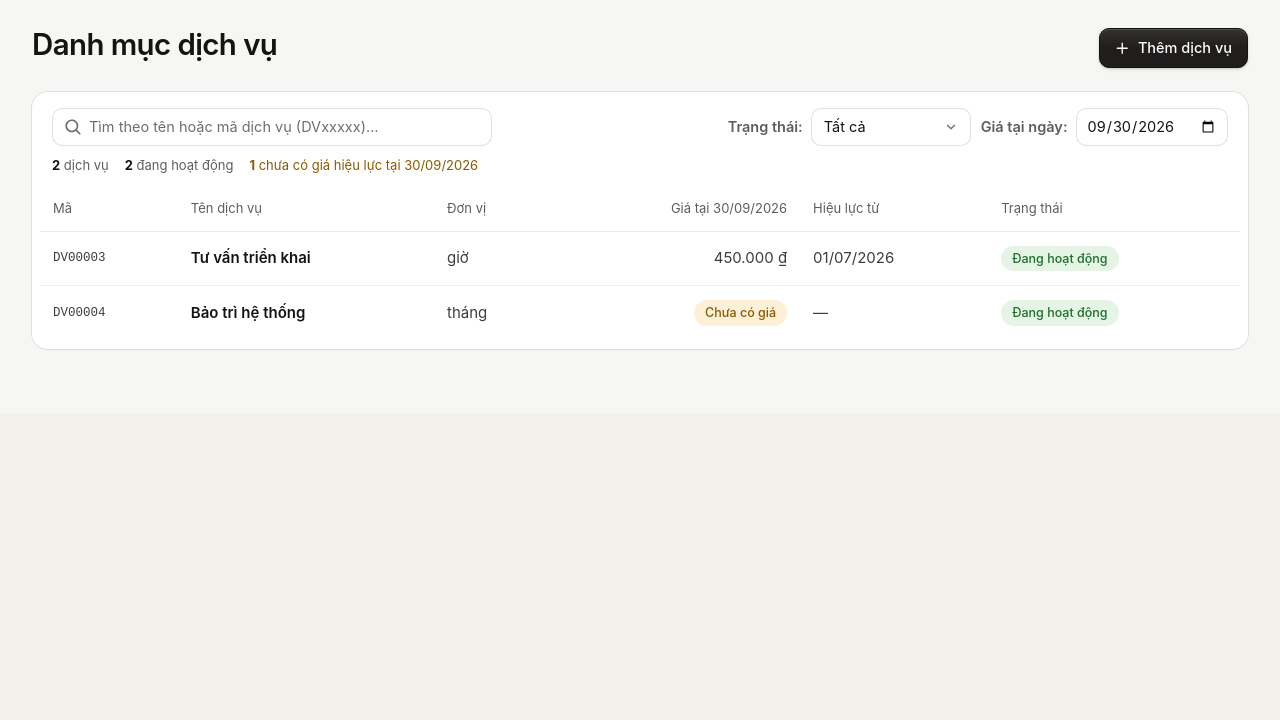
ServiceCatalogPage (NCL-15-CN-001) › TC-02: máy chủ báo trùng tên (409) → hiện lỗi dưới ô tên, không đóng form
This screenshot has width=1280, height=720.
Expected: the row with test id "svc-row-3" is shown, x1=40 y1=232 x2=1240 y2=286
Click the button with test id "svc-btn-create".
click(1174, 48)  # box x1=1099 y1=28 x2=1248 y2=68
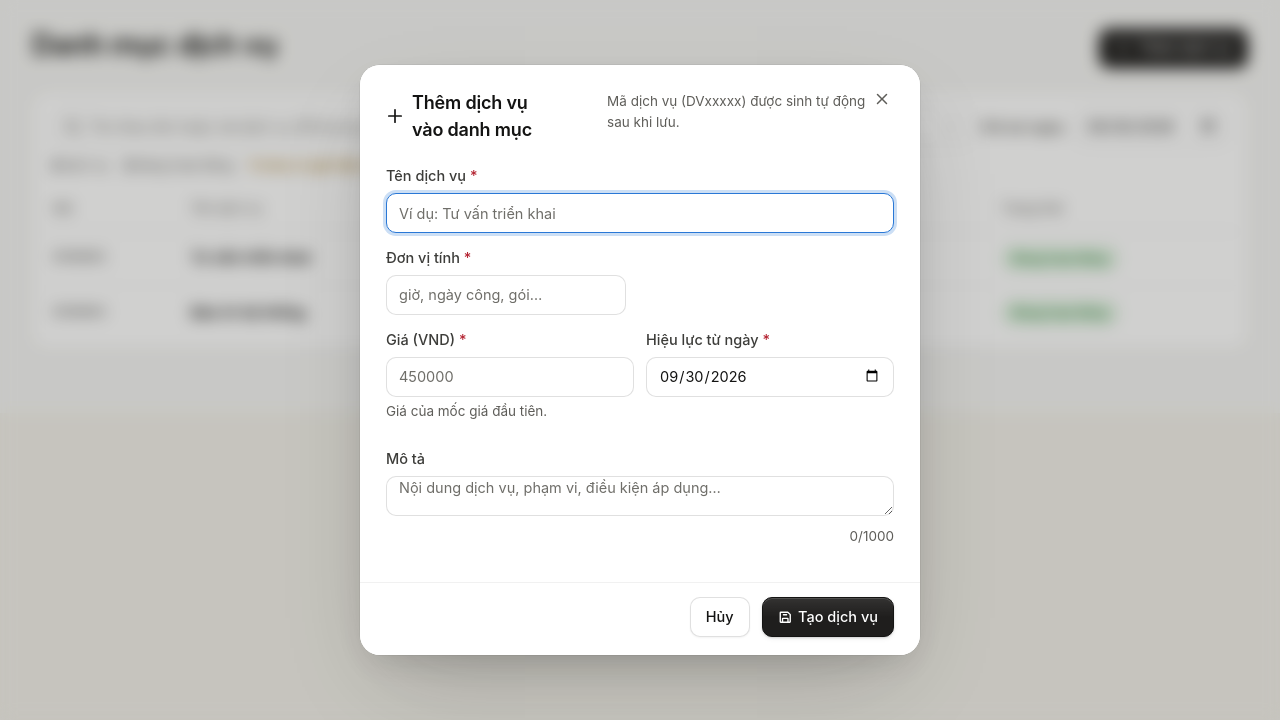
Type "Dịch vụ ẩn ở trang khác" into the field with test id "svc-input-name".
click(640, 213); type("Dịch vụ ẩn ở trang khác")  # box x1=386 y1=193 x2=894 y2=233
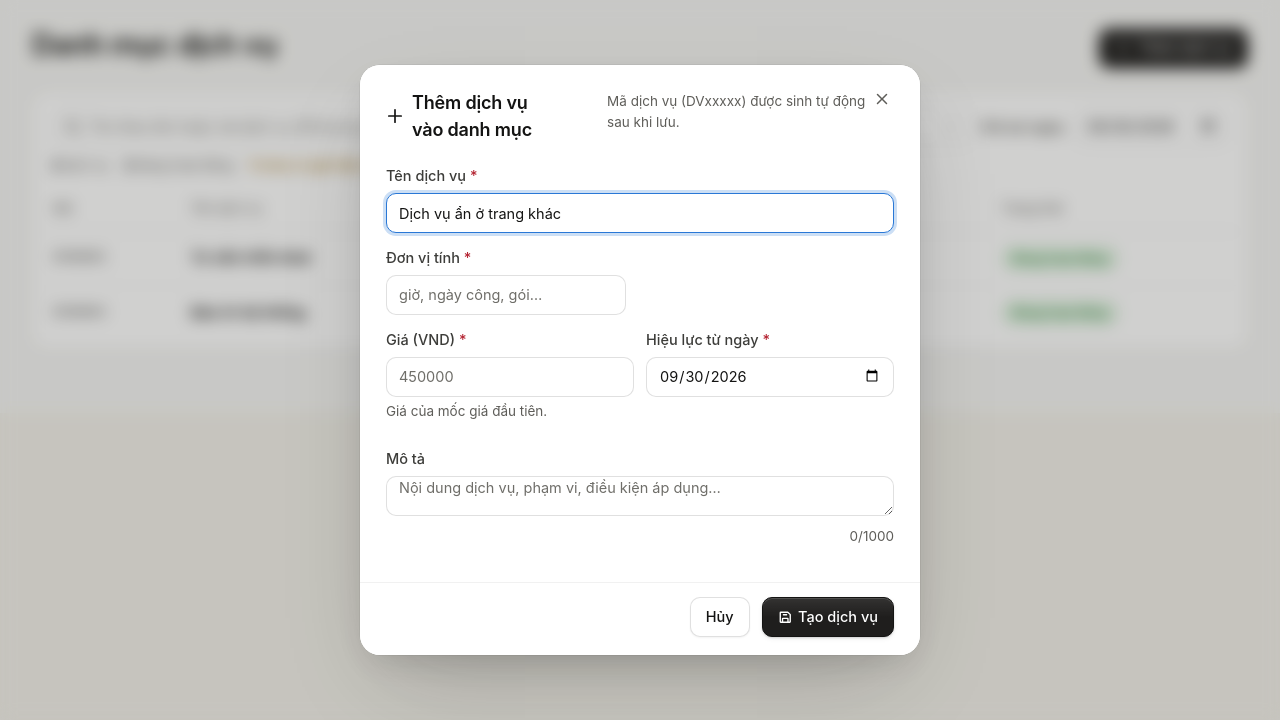
Type "giờ" into the field with test id "svc-input-unit".
click(506, 295); type("giờ")  # box x1=386 y1=275 x2=626 y2=315
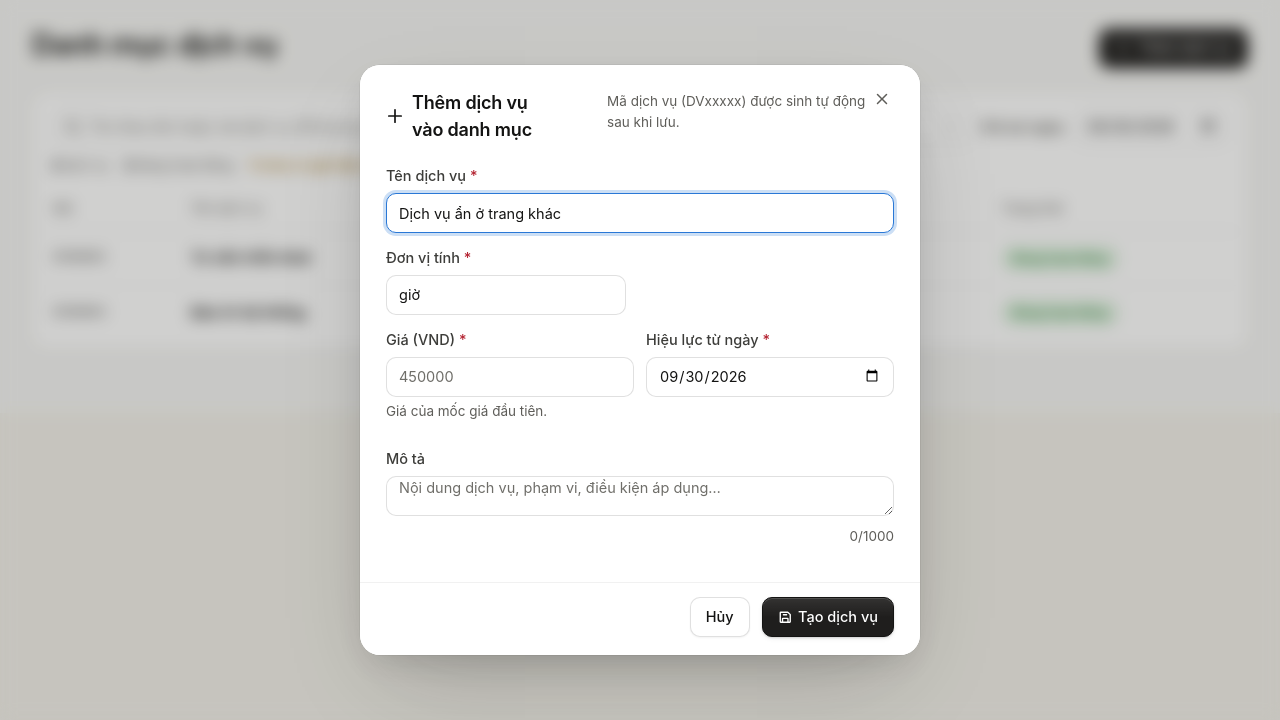
Type "100000" into the field with test id "svc-input-price".
click(510, 377); type("100000")  # box x1=386 y1=357 x2=634 y2=397
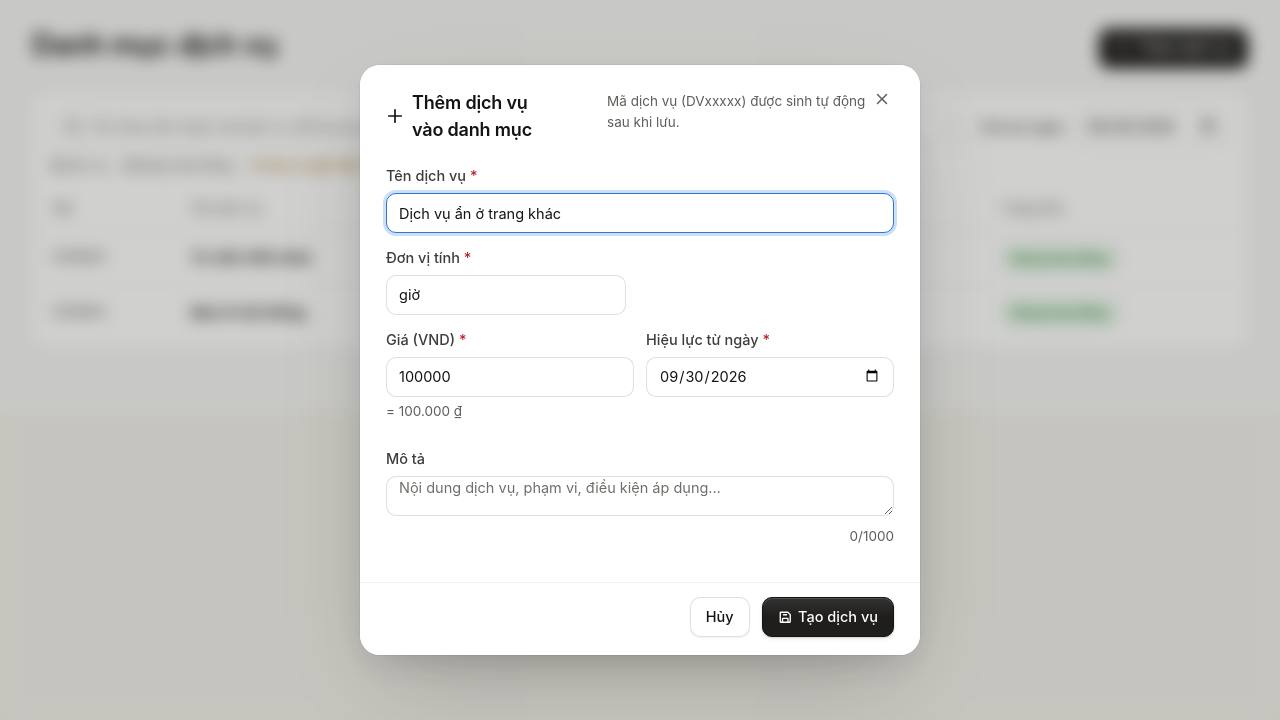
Click the button with test id "svc-submit".
click(828, 617)  # box x1=762 y1=597 x2=894 y2=637
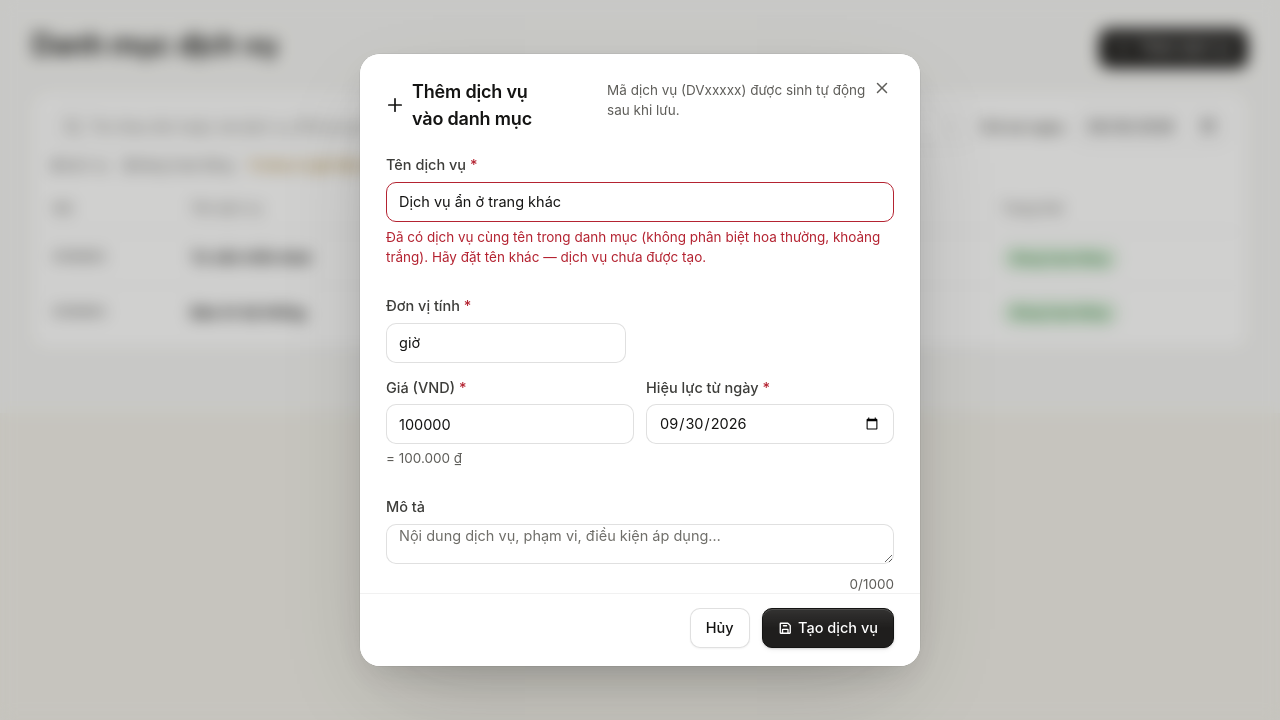
Expected: the form with test id "svc-form" that starts with "Tên dịch vụ" is shown, x1=360 y1=140 x2=920 y2=666
Expected: the message with test id "svc-error-name" shows "Đã có dịch vụ cùng tên", x1=386 y1=229 x2=880 y2=265
